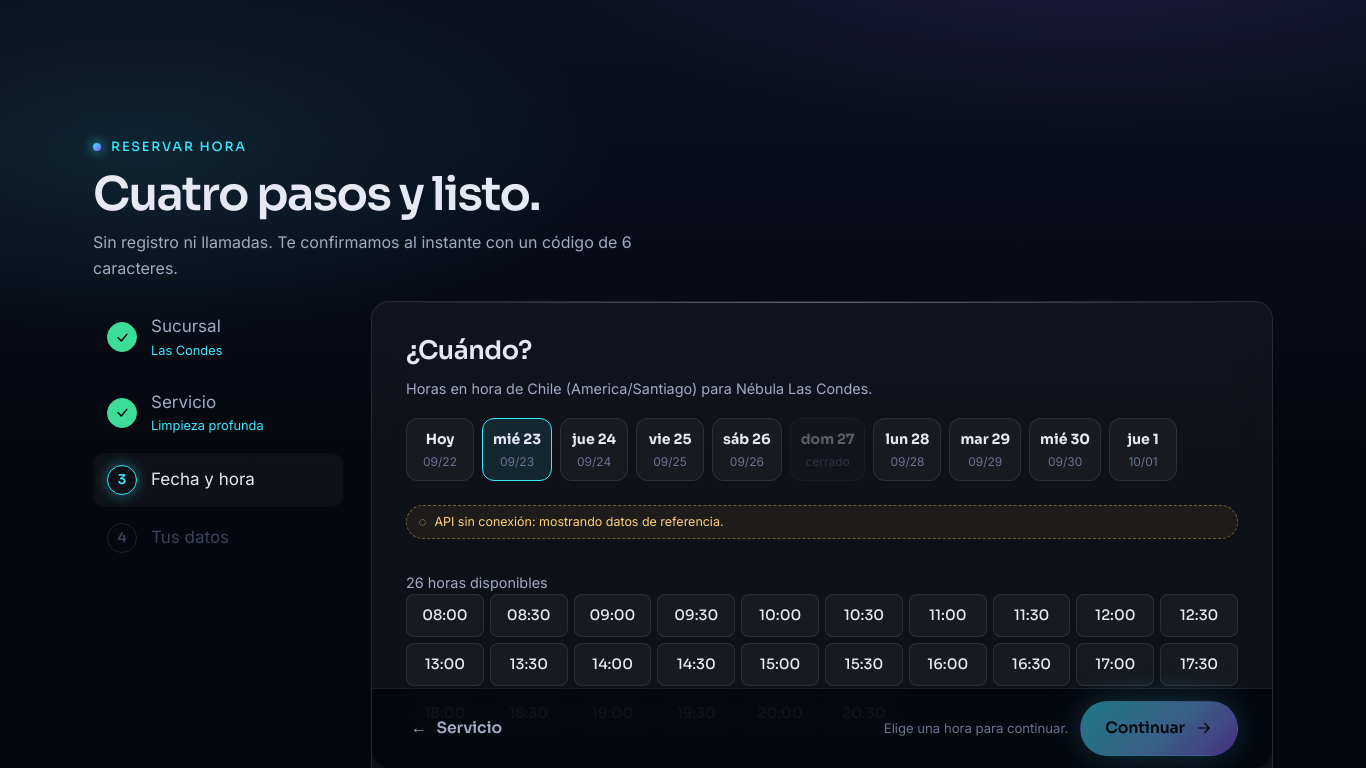
Test case: Reservar (wizard) › el riel permite volver a un paso ya completado y conserva lo elegido
Check: the heading "¿Cuándo?" is shown, box [406,334,532,366]
Click the option "09:00". click: {"x": 612, "y": 616}
box: [574,594,651,637]
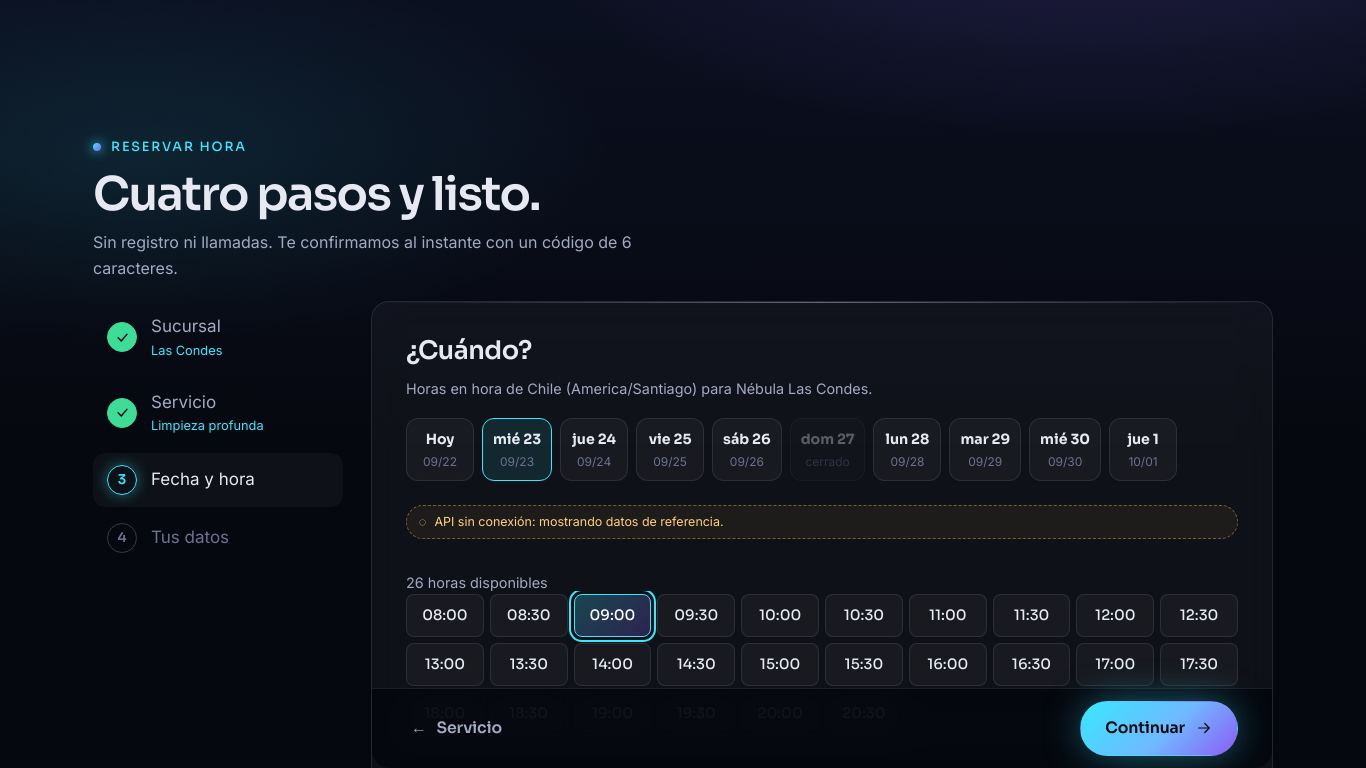
Click the button "Continuar". click: {"x": 1159, "y": 728}
box: [1080,701,1238,756]
(page scrolled)
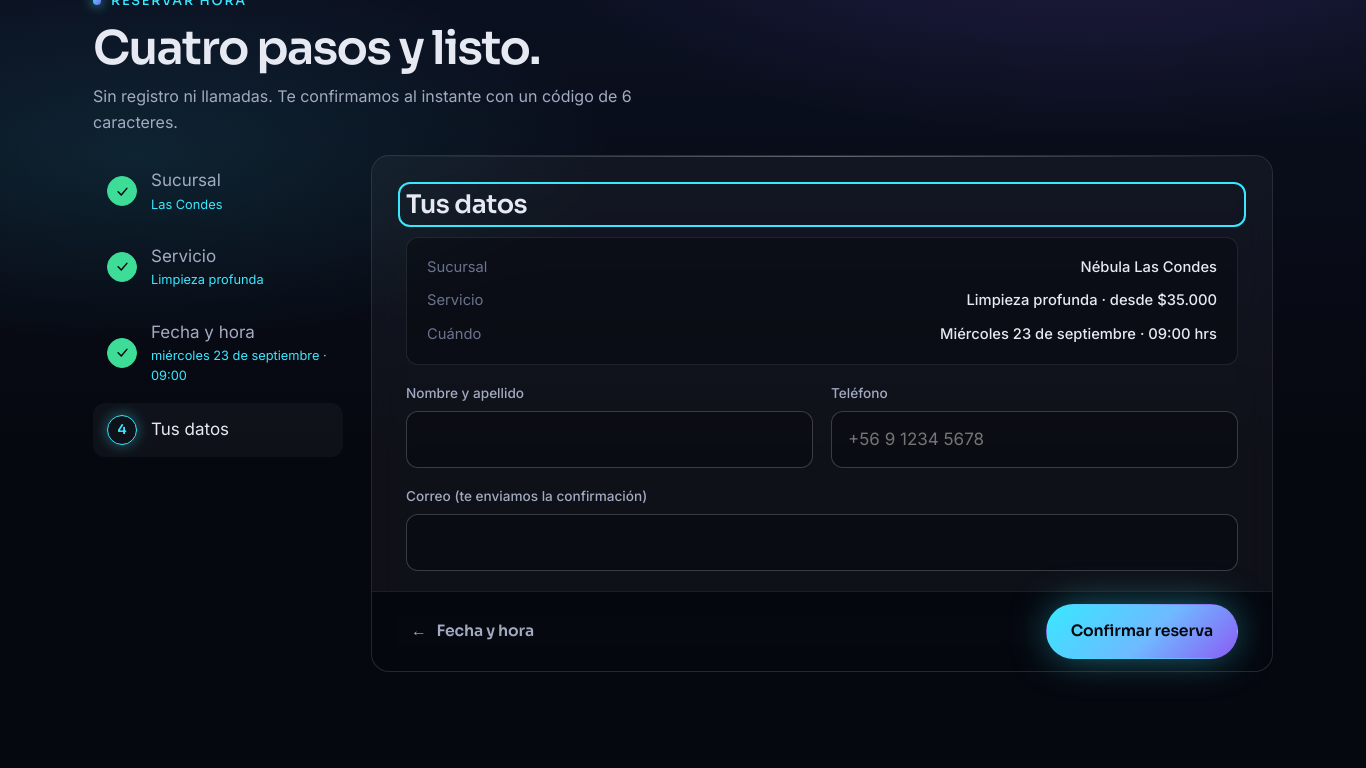
Check: the heading "Tus datos" is shown, box [406,188,527,220]
Click the button with aria-label "Paso 2: Servicio, Limpieza profunda". click: {"x": 218, "y": 267}
box: [93,231,343,303]
(page scrolled)
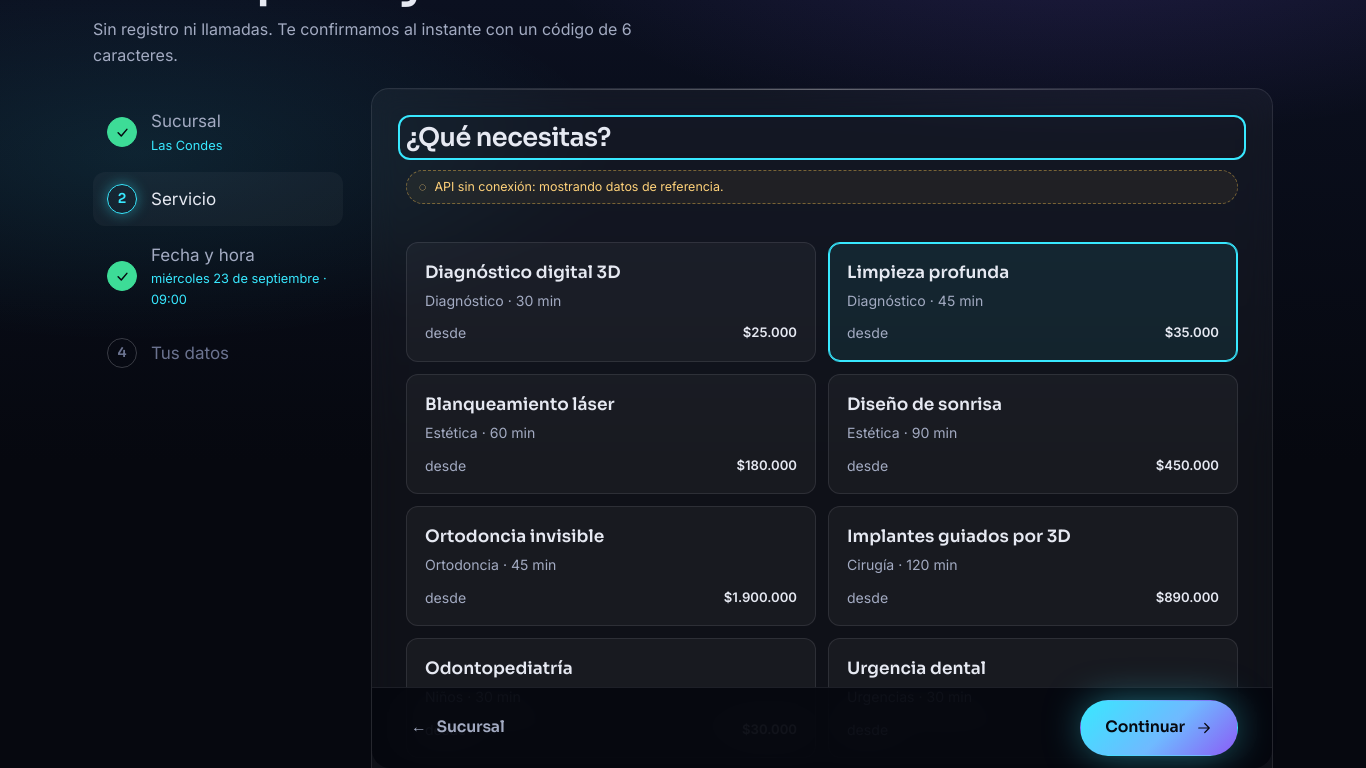
Check: the heading "¿Qué necesitas?" is shown, box [406,122,611,154]
Click the button with aria-label "Paso 3: Fecha y hora". click: {"x": 218, "y": 276}
box: [93,230,343,322]
(page scrolled)
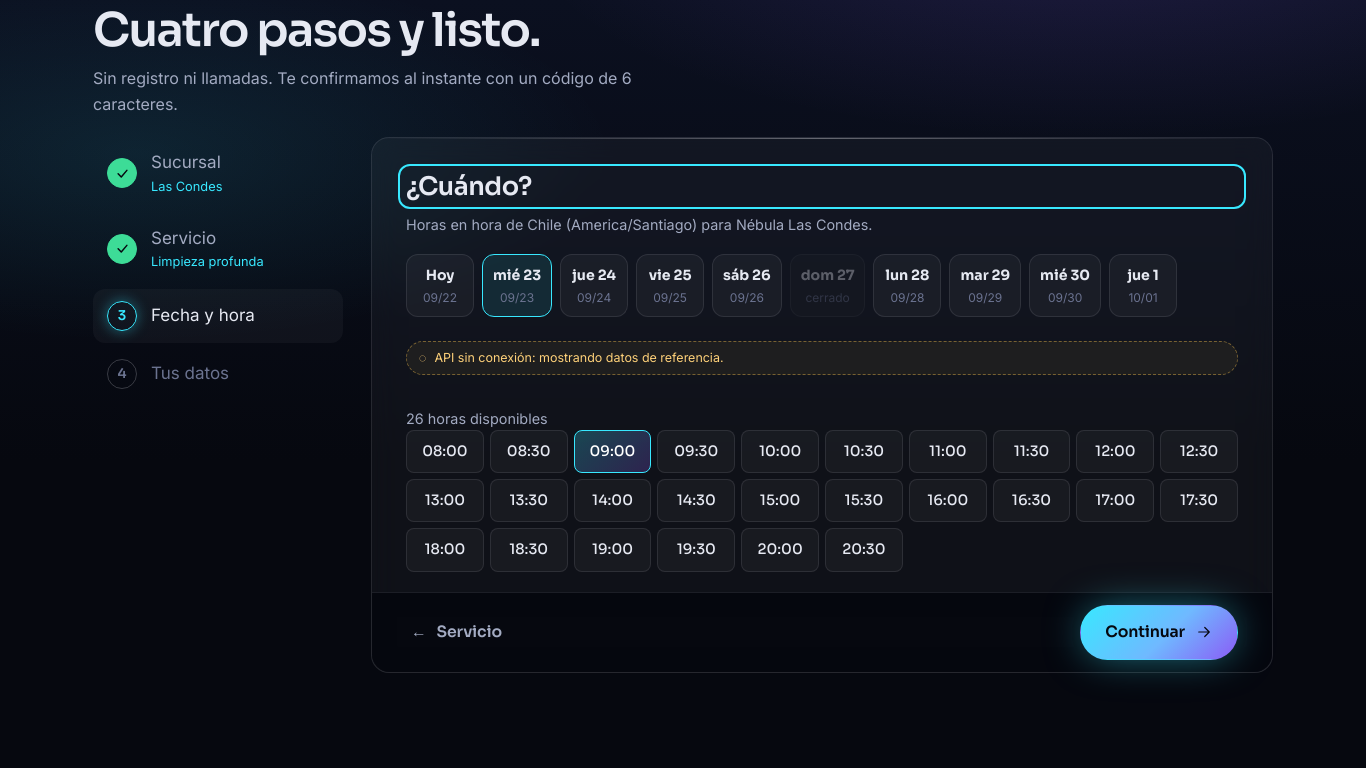
Check: the option "09:00" is shown, box [574,430,651,473]
Check: the heading "¿Cuándo?" is shown, box [406,170,532,202]
